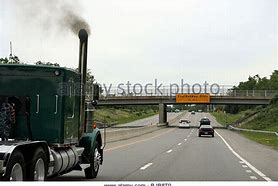smoke: (12, 1, 93, 39)
